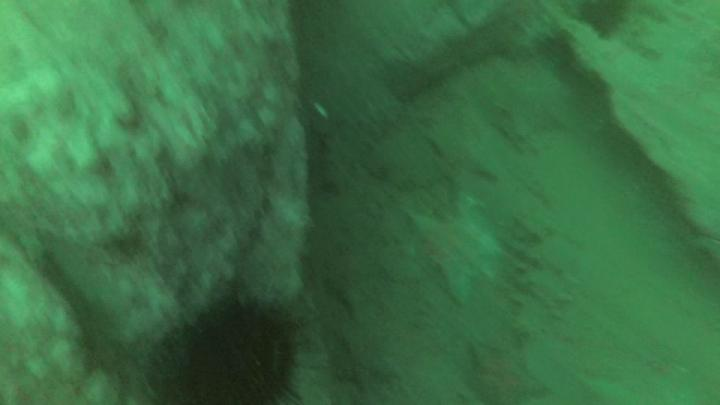echinus: (161, 280, 328, 405)
starfish: (408, 202, 511, 307)
